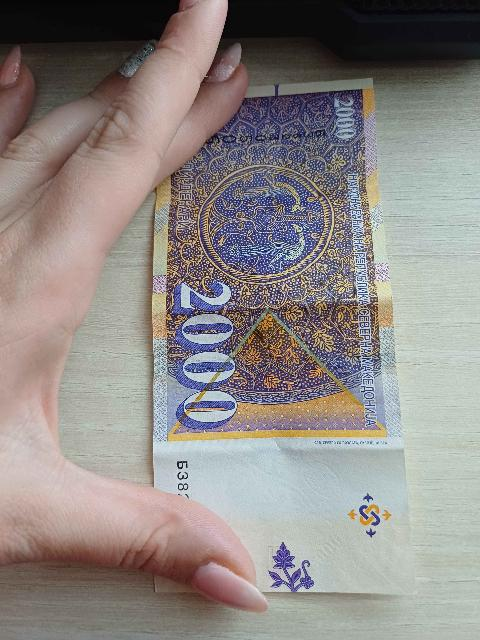2000_note: (153, 81, 413, 592)
